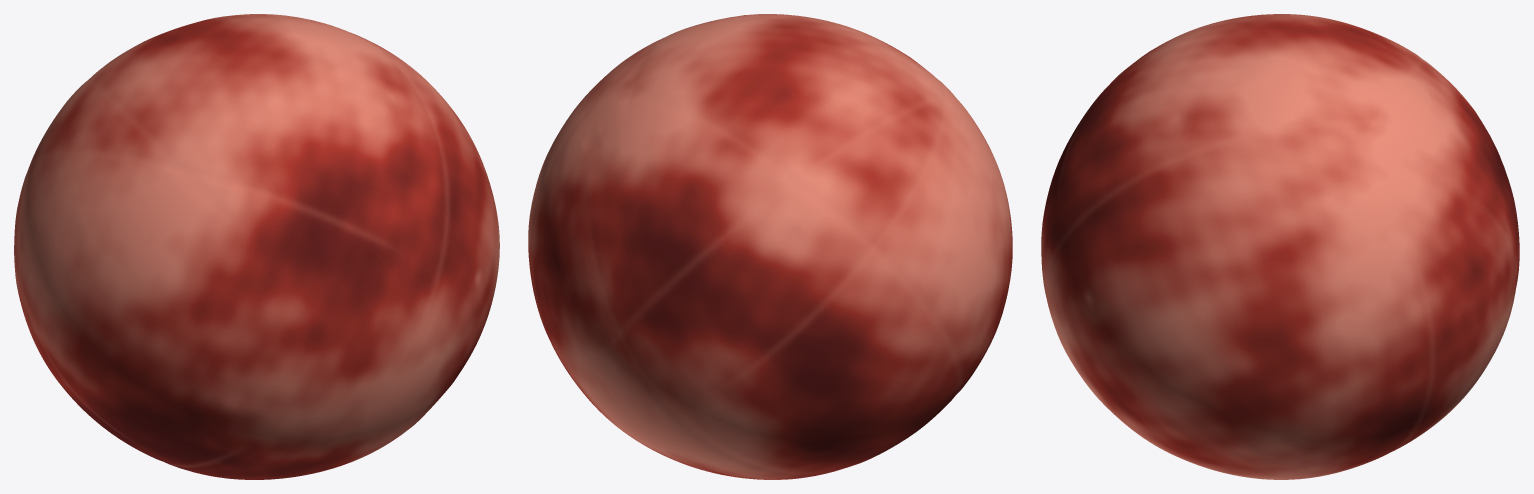
The model's file is sedna.glb.
3 views of the same model, side by side, from view 1: azimuth 30°, elevation 25°; view 2: azimuth 150°, elevation 25°; view 3: azimuth 270°, elevation 25° (orthographic).
Parts seen in each view (by area): view 1: sedna_body; view 2: sedna_body; view 3: sedna_body.
Boxes of the visible parts, x1,y1,x2,y2 form: sedna_body: (14, 14, 499, 479); sedna_body: (528, 14, 1012, 479); sedna_body: (1041, 14, 1519, 479).
Bounding box in the file's own units: 2.03 × 1.92 × 2.
1 material, 1 textured.
